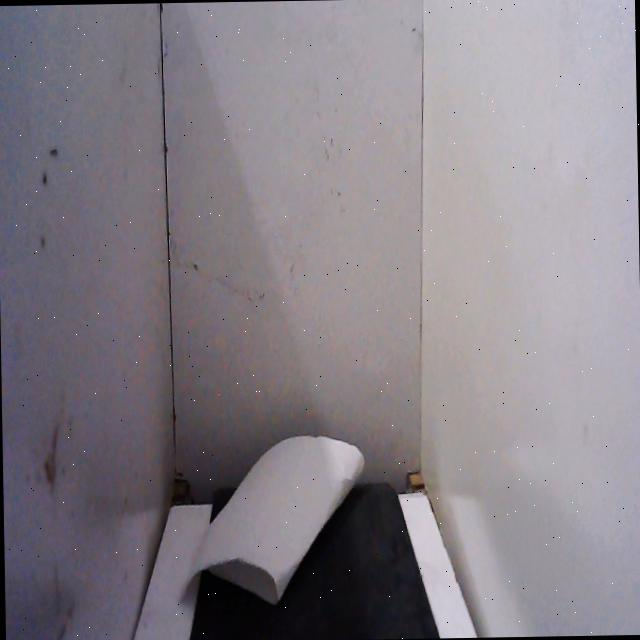papel: (171, 424, 374, 618)
